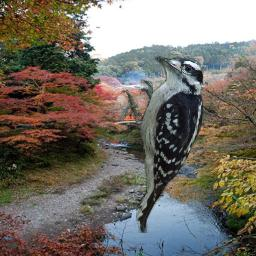Woodpecker: (119, 54, 214, 233)
